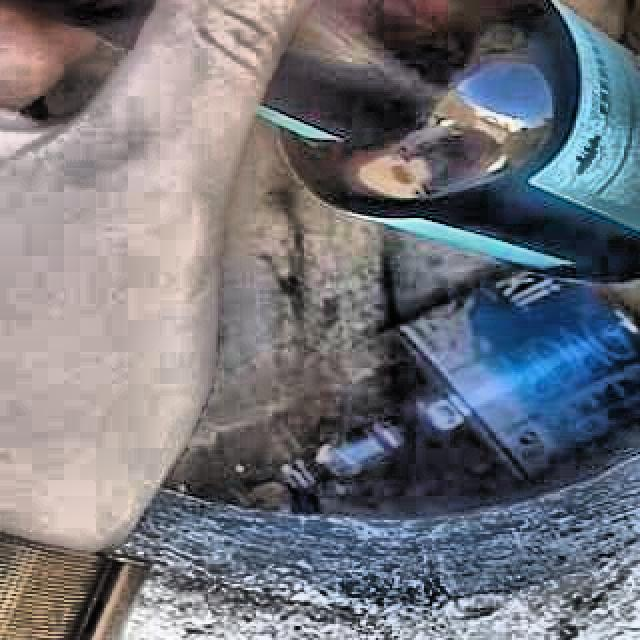glass: (261, 0, 640, 290)
